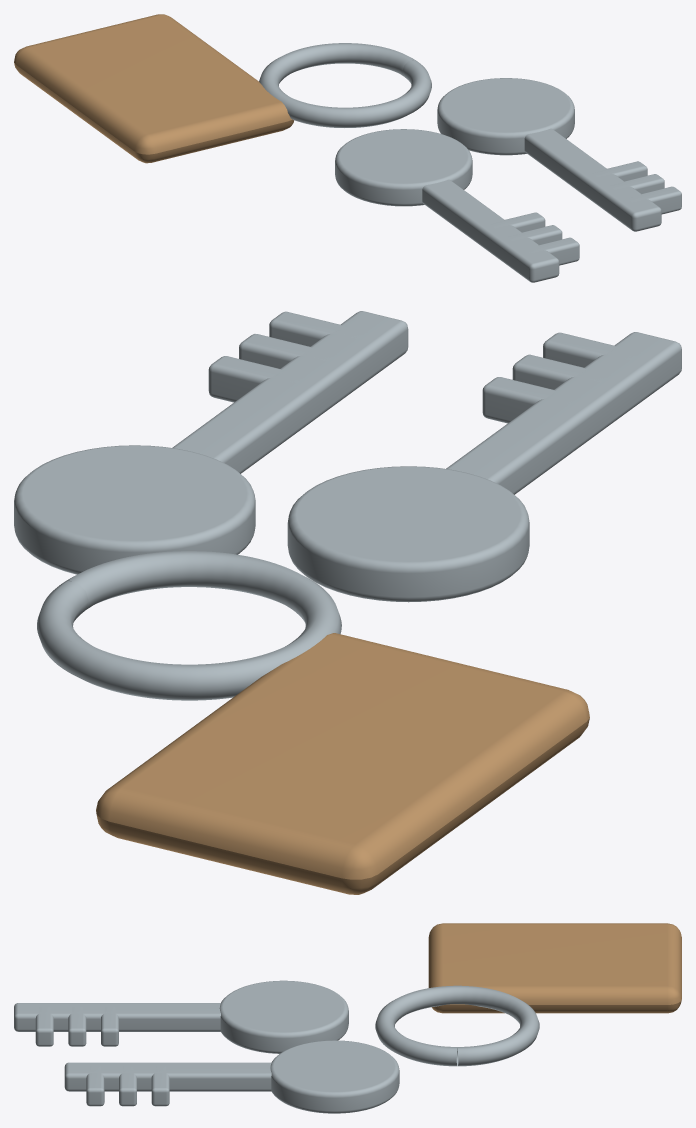
File: entry-keys.glb
The picture shows the model from 3 angles, top to bottom: view 1: azimuth 30°, elevation 25°; view 2: azimuth 150°, elevation 25°; view 3: azimuth 270°, elevation 25°; orthographic projection. The views are drawn at different scales.
Parts seen in each view (by area): view 1: Leather key fob, Key bow, Key bow.001, Key ring, Key shaft.001, Key shaft, Key tooth.005, Key tooth.002, Key tooth, Key tooth.003, Key tooth.001, Key tooth.004; view 2: Leather key fob, Key bow, Key bow.001, Key ring, Key shaft.001, Key shaft, Key tooth.003, Key tooth, Key tooth.005, Key tooth.002, Key tooth.004, Key tooth.001; view 3: Leather key fob, Key bow.001, Key bow, Key ring, Key shaft.001, Key shaft, Key tooth.002, Key tooth.001, Key tooth.005, Key tooth.003, Key tooth, Key tooth.004.
Part boxes in pixels (x1,y1,x2,y2): Leather key fob: (14, 14, 293, 163); Key bow: (335, 129, 472, 206); Key bow.001: (437, 78, 574, 155); Key ring: (259, 43, 431, 127); Key shaft.001: (524, 128, 661, 231); Key shaft: (422, 179, 559, 282); Key tooth.005: (626, 186, 681, 214); Key tooth.002: (526, 237, 579, 265); Key tooth: (490, 212, 545, 232); Key tooth.003: (592, 161, 647, 181); Key tooth.001: (507, 225, 562, 244); Key tooth.004: (609, 174, 664, 193); Leather key fob: (96, 633, 589, 894); Key bow: (287, 466, 529, 602); Key bow.001: (14, 445, 255, 574); Key ring: (37, 551, 341, 700); Key shaft.001: (172, 311, 408, 473); Key shaft: (446, 332, 681, 494); Key tooth.003: (208, 356, 304, 402); Key tooth: (482, 377, 578, 423); Key tooth.005: (269, 311, 366, 346); Key tooth.002: (543, 332, 638, 367); Key tooth.004: (239, 334, 334, 368); Key tooth.001: (512, 354, 610, 389); Leather key fob: (428, 923, 681, 1013); Key bow.001: (270, 1040, 399, 1113); Key bow: (219, 980, 348, 1053); Key ring: (375, 985, 539, 1066); Key shaft.001: (64, 1062, 271, 1091); Key shaft: (14, 1003, 220, 1031); Key tooth.002: (35, 1006, 53, 1046); Key tooth.001: (68, 1006, 86, 1046); Key tooth.005: (86, 1066, 104, 1106); Key tooth.003: (151, 1066, 169, 1106); Key tooth: (101, 1006, 118, 1046); Key tooth.004: (119, 1066, 136, 1106).
Size of the model in its own units: 4.79 by 0.3629 by 7.81.
